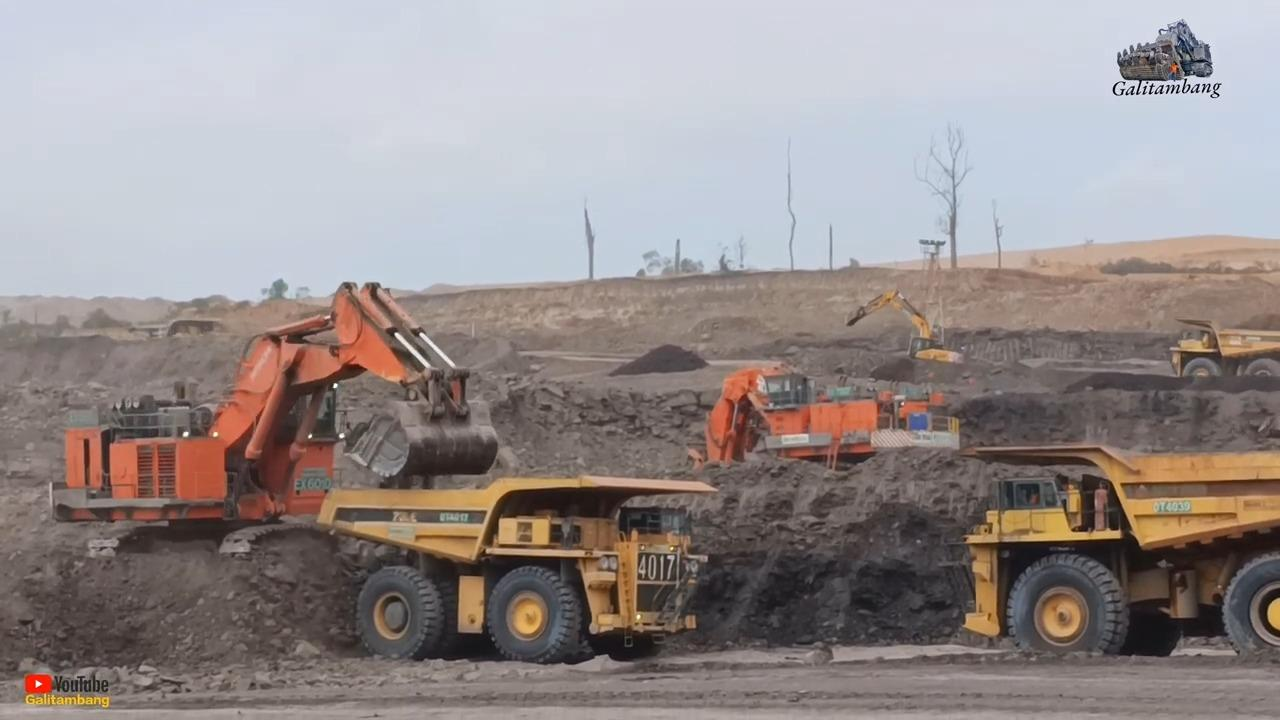Excavator: (50, 282, 498, 523), (689, 365, 958, 468)
HD-Truck: (316, 476, 717, 663), (959, 444, 1279, 655)
